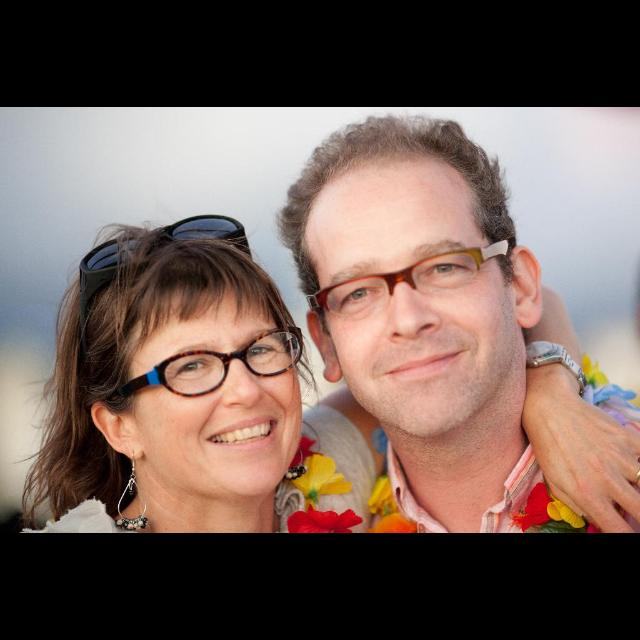Flower: (294, 452, 350, 504), (286, 503, 364, 533), (508, 483, 554, 533), (281, 434, 323, 484), (592, 382, 640, 410), (367, 472, 397, 516), (547, 498, 587, 530), (366, 511, 418, 533), (582, 354, 610, 391), (373, 425, 389, 457)
